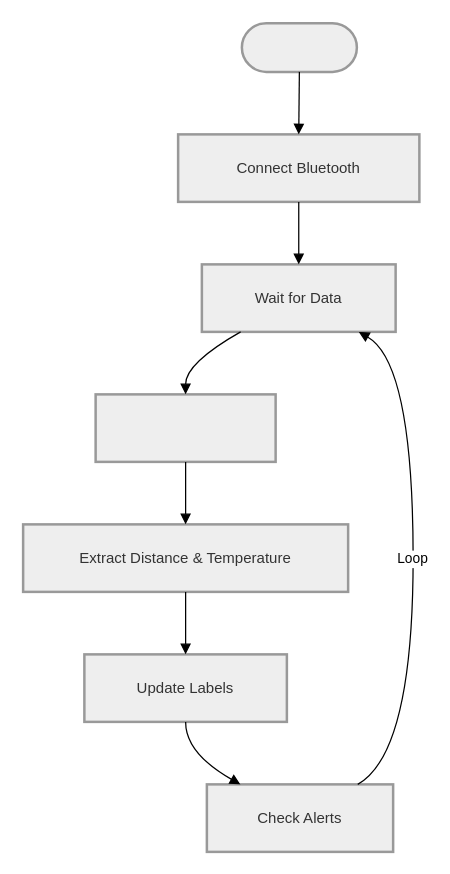
Image size: 450x874. Some labels were removed from this diagram. The box of each missing label's shape, as (x1, y1, x2, y2) in pixels:
App Start: (240, 21, 358, 72)
Parse String: (94, 392, 276, 462)
